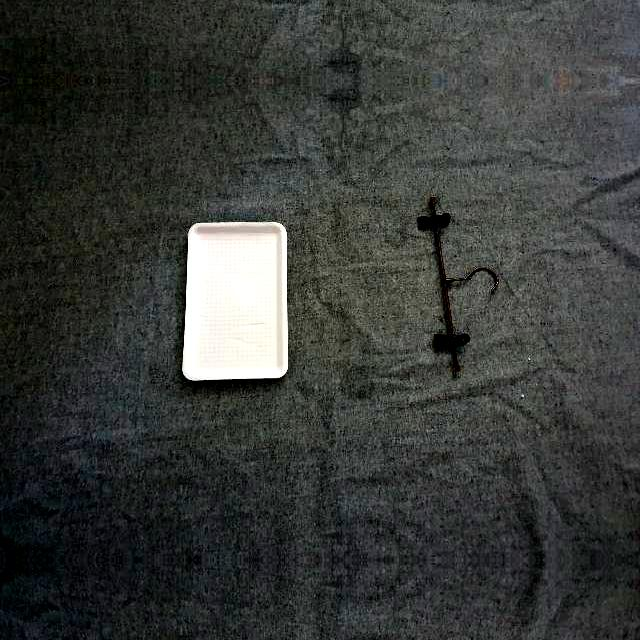Styrofoam: (180, 220, 288, 382), (182, 221, 288, 380)
